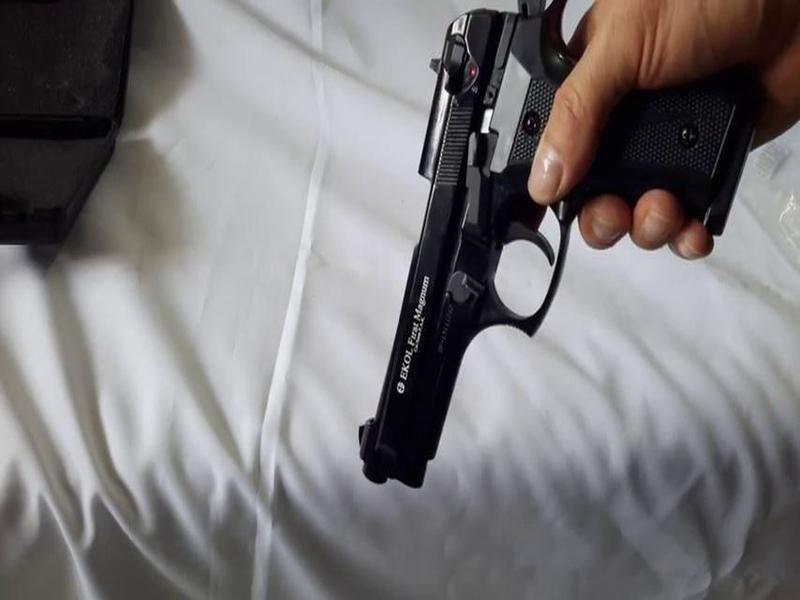Pistola: (344, 24, 765, 483)
